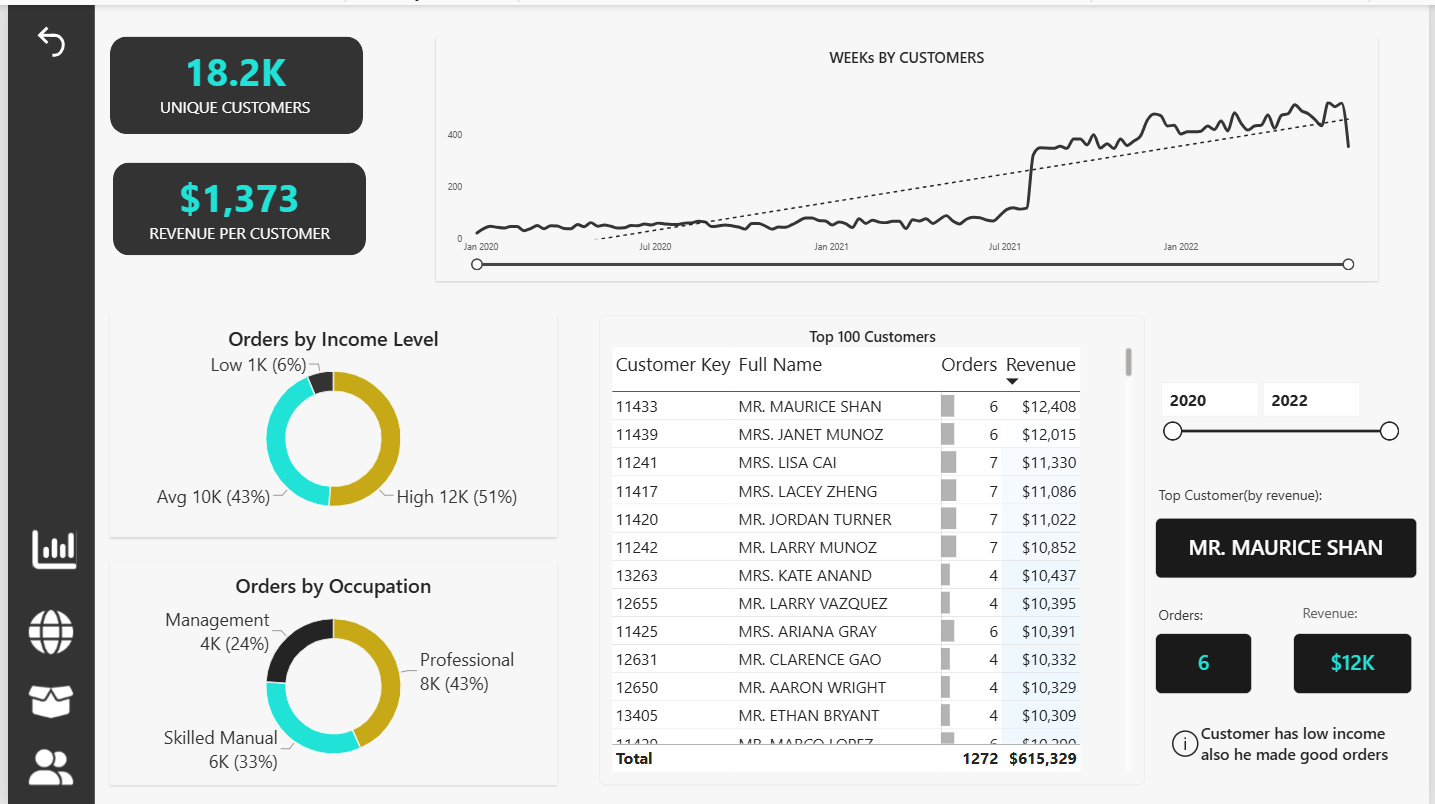

What the dashboard file says about the page in this screenshot:
{"tool":"powerbi","page":{"name":"Customer Detail","canvas":[1920,1080],"ordinal":3},"visuals":[{"type":"shape","title":"left panel","box":[0,0,117.6,1080.7],"z":0},{"type":"actionButton","box":[8.2,693.4,109.5,85.2],"z":0,"group":"g3"},{"type":"group","id":"g1","title":"Group 1","box":[138,4,342,198],"z":1000},{"type":"shape","box":[142,212,342,125.6],"z":1000,"group":"g2"},{"type":"actionButton","box":[8,986.5,99.4,85.2],"z":1000,"group":"g3"},{"type":"shape","box":[138,42,342,132],"z":2000,"group":"g1"},{"type":"group","id":"g2","title":"Group 2","box":[142,174,342,198],"z":2000},{"type":"actionButton","box":[8,804,99.4,85.2],"z":2000,"group":"g3"},{"type":"lineChart","title":"WEEKs BY CUSTOMERS","fields":{"Category":["AdventureWorks Calendar Lookup.Date Hierarchy.year","AdventureWorks Calendar Lookup.Date Hierarchy.Start of month","AdventureWorks Calendar Lookup.Date Hierarchy.Start of Quarter","AdventureWorks Calendar Lookup.Date Hierarchy.Strat of the week","AdventureWorks Calendar Lookup.Date Hierarchy.Day"],"Y":["Sales Data (Fact).Unique Customer"]},"box":[578,42,1274,330],"z":3000},{"type":"actionButton","box":[4.1,885.9,107.5,111.5],"z":3000,"group":"g3"},{"type":"donutChart","title":"Orders by Income Level","fields":{"Category":["AdventureWorks Customer Lookup.IncomeLevel"],"Y":["Sales Data (Fact).Total Orders"]},"box":[138.3,417.7,603.9,302],"z":4000},{"type":"card","fields":{"Values":["AdventureWorks Customer Lookup.Total Customers"]},"box":[142.1,4,330,198],"z":5000,"group":"g1"},{"type":"donutChart","title":"Orders by Occupation","fields":{"Category":["AdventureWorks Customer Lookup.Occupation"],"Y":["Sales Data (Fact).Total Orders"]},"box":[138.1,751.4,603.9,302],"z":5000},{"type":"card","fields":{"Values":["AdventureWorks Customer Lookup.Avg Revenue"]},"box":[148,174,330,198],"z":6000,"group":"g2"},{"type":"tableEx","title":"Top 100 Customers","fields":{"Values":["AdventureWorks Customer Lookup.CustomerKey","AdventureWorks Customer Lookup.Full Name","Sales Data (Fact).Total Orders","Sales Data (Fact).Total Revenue"]},"box":[798.9,418.7,737.8,633.7],"z":6000},{"type":"card","fields":{"Values":["AdventureWorks Customer Lookup.Customer FUllName(Hasonevalue)"]},"box":[1550.2,693.5,353.1,81.5],"z":7000},{"type":"textbox","box":[1554.8,649.3,251.4,42.6],"z":8000},{"type":"card","fields":{"Values":["Sales Data (Fact).Orders (HasOveValue)"]},"box":[1550.2,850.2,130.3,81.4],"z":9000},{"type":"textbox","box":[1554.8,810.7,95.4,39.5],"z":10000},{"type":"card","fields":{"Values":["Sales Data (Fact).Revenue (HasOneValue)"]},"box":[1737.6,849.6,160.2,81.1],"z":11000},{"type":"textbox","box":[1749.4,809.3,148.9,39.5],"z":12000},{"type":"slicer","fields":{"Values":["AdventureWorks Calendar Lookup.year"]},"box":[1551.1,504.9,332.5,89.2],"z":13000},{"type":"actionButton","box":[0,4.1,117.6,91.2],"z":14000},{"type":"actionButton","box":[1567.3,961.1,336.6,75],"z":15000},{"type":"group","id":"g3","title":"Navigation buttons","box":[4.1,693.4,113.5,378.3],"z":15001}]}

Visuals, with their boxes on the page's 1920x1080 design canvas (x1, y1, x2, y2). These are canvas units, not pixel positions in the 1435x804 screenshot, which may show the page scaled, cropped or inside an application window:
"left panel" shape: [x1=0, y1=0, x2=118, y2=1081]
actionButton: [x1=8, y1=693, x2=118, y2=779]
"Group 1" group: [x1=138, y1=4, x2=480, y2=202]
shape: [x1=142, y1=212, x2=484, y2=338]
actionButton: [x1=8, y1=986, x2=107, y2=1072]
shape: [x1=138, y1=42, x2=480, y2=174]
"Group 2" group: [x1=142, y1=174, x2=484, y2=372]
actionButton: [x1=8, y1=804, x2=107, y2=889]
"WEEKs BY CUSTOMERS" lineChart: [x1=578, y1=42, x2=1852, y2=372]
actionButton: [x1=4, y1=886, x2=112, y2=997]
"Orders by Income Level" donutChart: [x1=138, y1=418, x2=742, y2=720]
card - AdventureWorks Customer Lookup.Total Customers: [x1=142, y1=4, x2=472, y2=202]
"Orders by Occupation" donutChart: [x1=138, y1=751, x2=742, y2=1053]
card - AdventureWorks Customer Lookup.Avg Revenue: [x1=148, y1=174, x2=478, y2=372]
"Top 100 Customers" tableEx: [x1=799, y1=419, x2=1537, y2=1052]
card - AdventureWorks Customer Lookup.Customer FUllName(Hasonevalue): [x1=1550, y1=694, x2=1903, y2=775]
textbox: [x1=1555, y1=649, x2=1806, y2=692]
card - Sales Data (Fact).Orders (HasOveValue): [x1=1550, y1=850, x2=1680, y2=932]
textbox: [x1=1555, y1=811, x2=1650, y2=850]
card - Sales Data (Fact).Revenue (HasOneValue): [x1=1738, y1=850, x2=1898, y2=931]
textbox: [x1=1749, y1=809, x2=1898, y2=849]
slicer - AdventureWorks Calendar Lookup.year: [x1=1551, y1=505, x2=1884, y2=594]
actionButton: [x1=0, y1=4, x2=118, y2=95]
actionButton: [x1=1567, y1=961, x2=1904, y2=1036]
"Navigation buttons" group: [x1=4, y1=693, x2=118, y2=1072]
